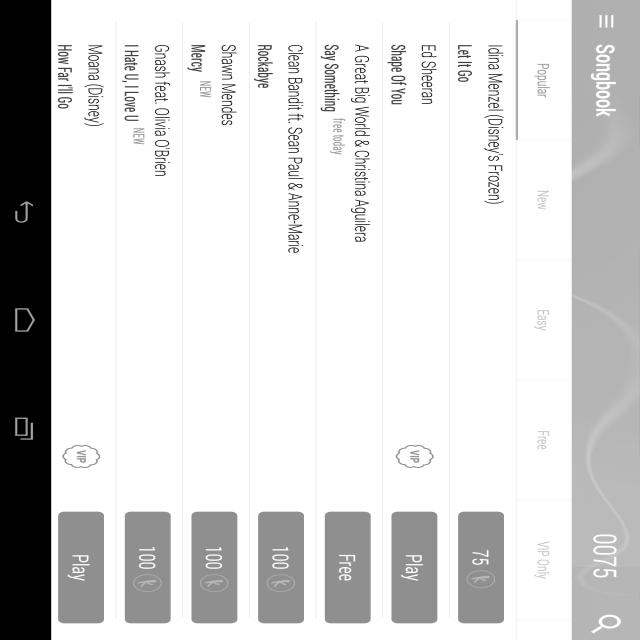ImageButton: (0, 3, 60, 40)
TextView: (32, 42, 224, 78), (224, 42, 416, 78), (416, 42, 608, 78), (71, 207, 410, 223), (71, 165, 388, 181), (70, 0, 187, 43), (71, 82, 327, 98), (71, 290, 287, 306), (71, 306, 236, 326), (71, 182, 252, 200), (71, 248, 206, 265), (71, 348, 186, 367), (71, 332, 203, 348), (71, 140, 179, 158), (71, 264, 160, 284), (71, 123, 167, 140), (71, 223, 156, 242), (71, 98, 142, 117), (0, 42, 32, 78), (608, 42, 640, 78)
